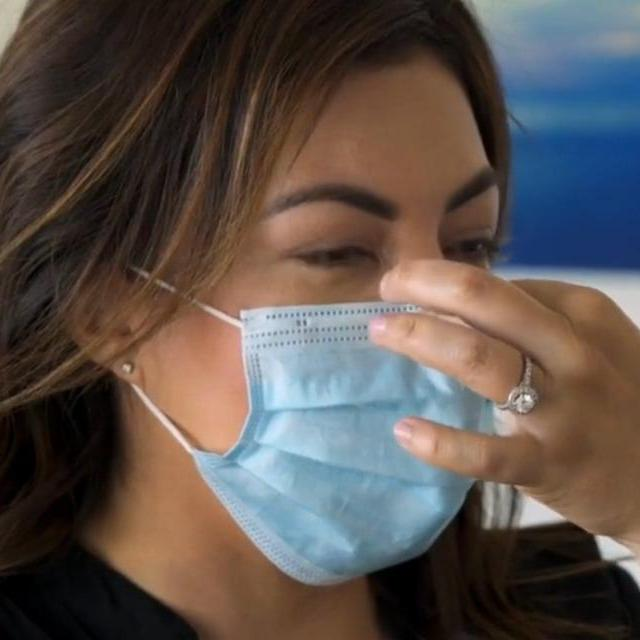Mask: (115, 267, 503, 589)
NO-Hardhat: (1, 0, 504, 147)
NO-Safety Vest: (0, 536, 640, 640)
Person: (0, 0, 640, 640)
